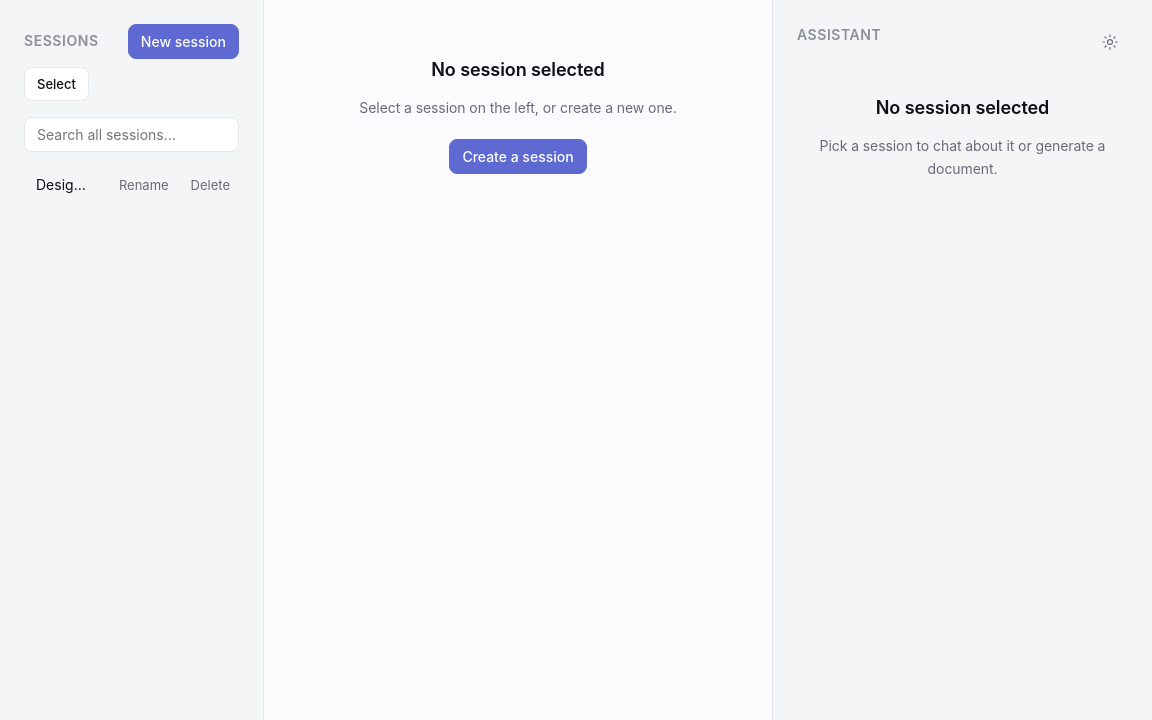
App › renames the selected session and reflects it in the list and canvas
Click the button "Design review" at (63, 184), box 24,168 -> 102,201
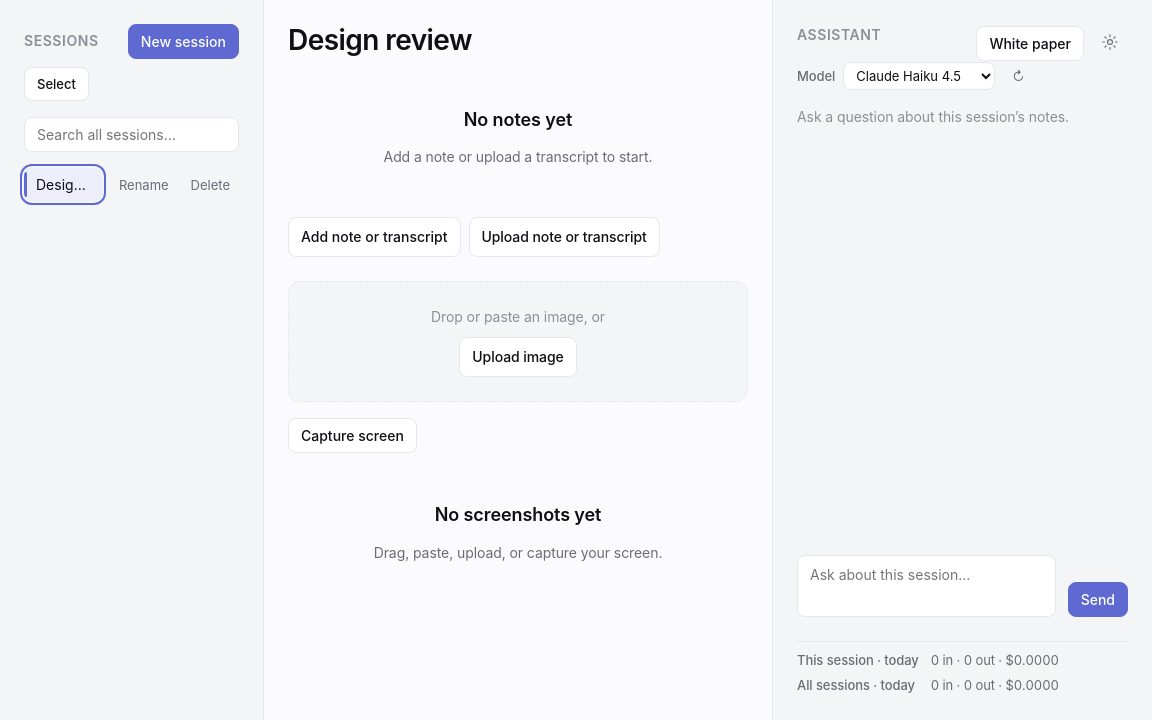
Click the button with aria-label "Rename Design review" at (144, 184), box 110,172 -> 178,198
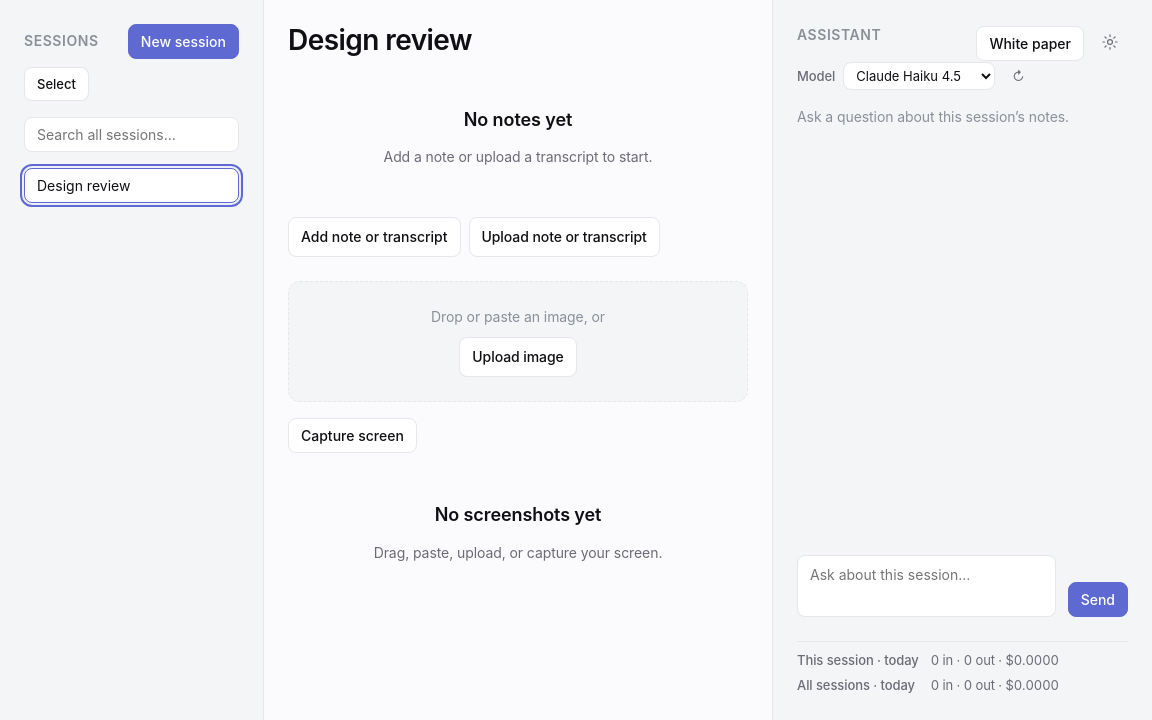
Replace the text in the field named "session name" with "Architecture review" at (132, 186), box 24,168 -> 239,203
Then press Enter
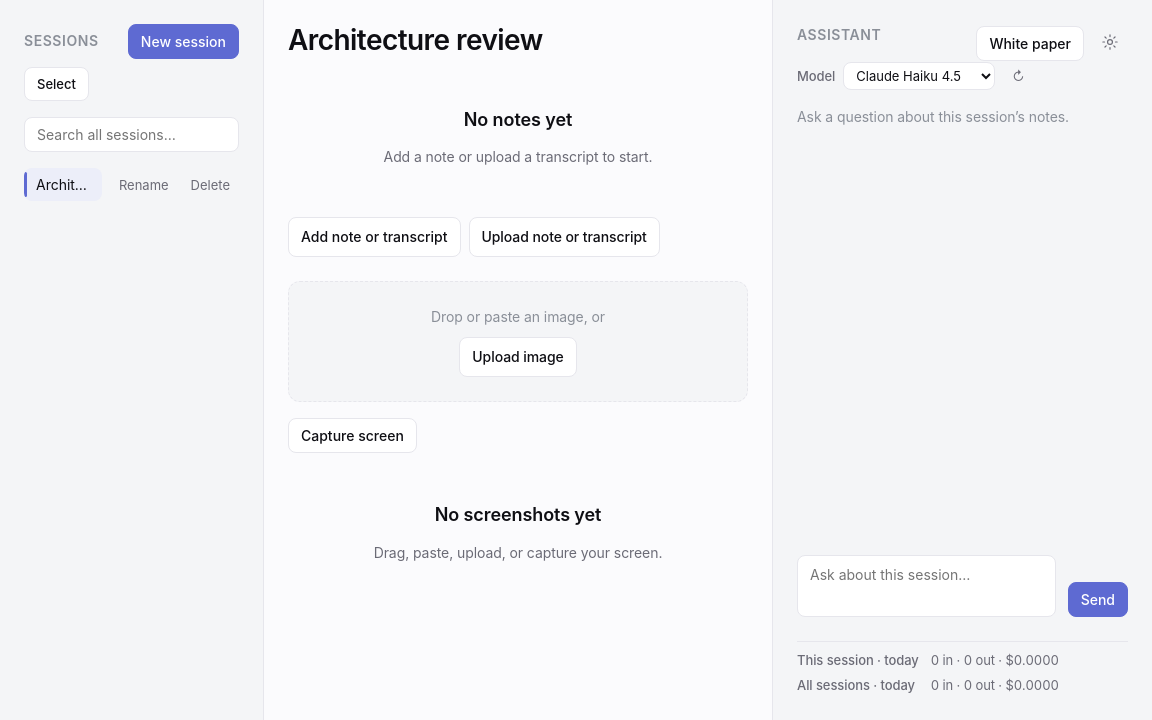
Expected: the button "Architecture review" is shown, 24,168 -> 102,201
Expected: the heading "Architecture review" is shown, 288,23 -> 543,57
